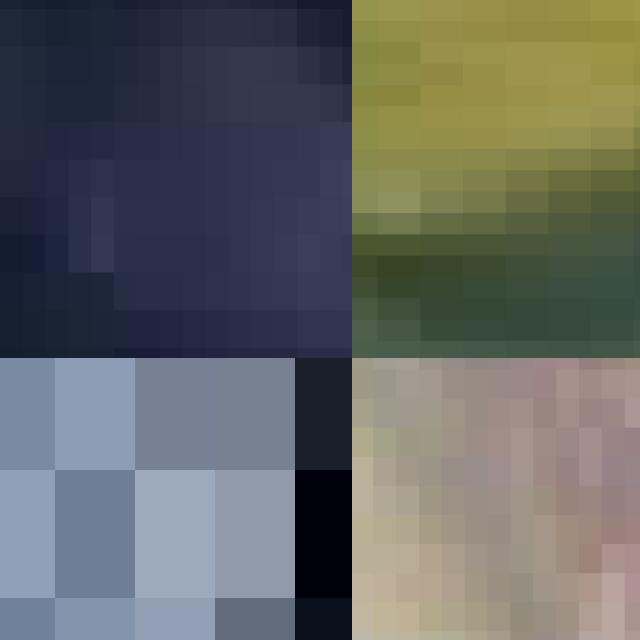fish: (0, 0, 352, 358), (352, 358, 640, 640)
